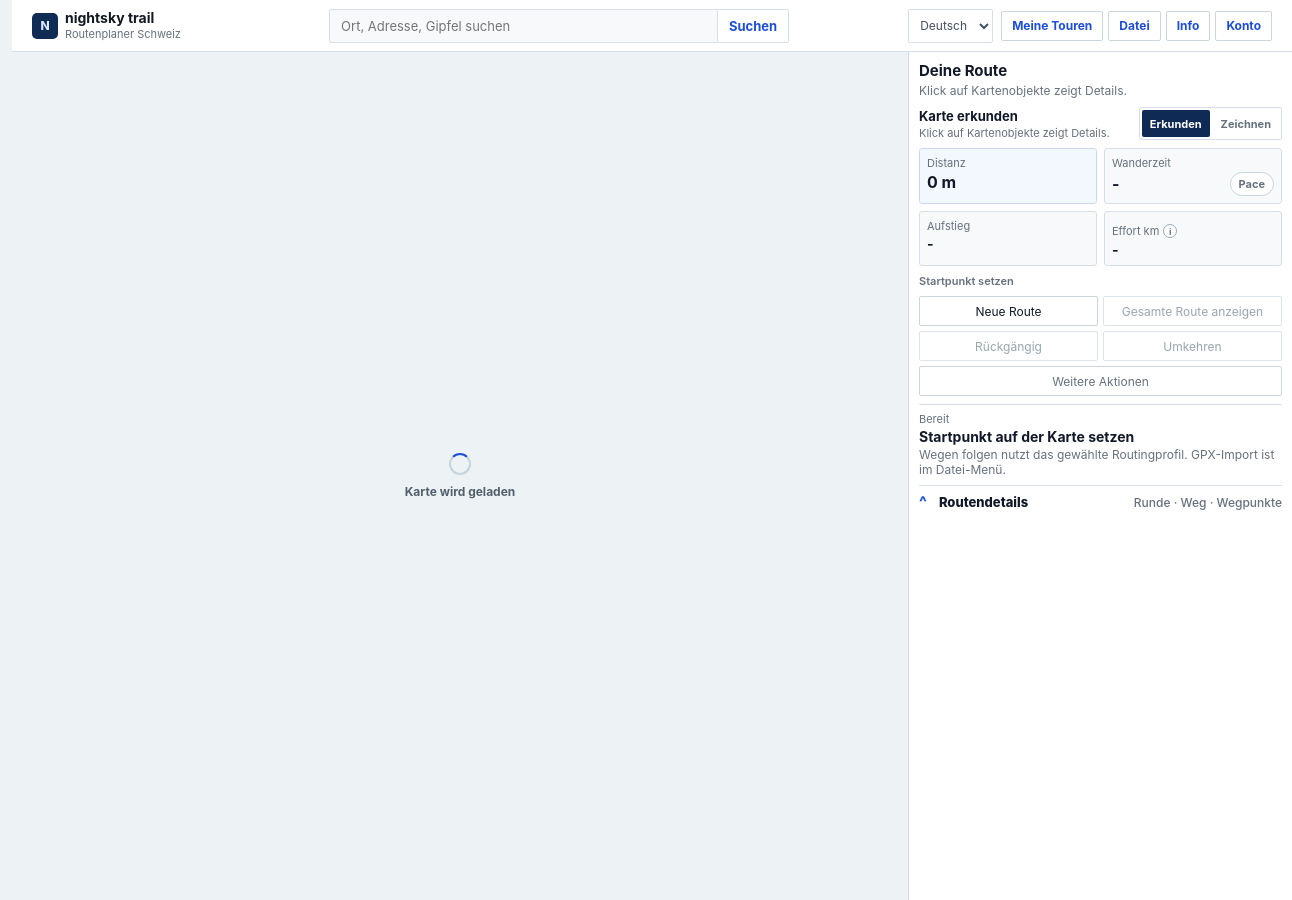
Test: App › starts in exploration mode and enables route tools explicitly
The width and height of the screenshot is (1292, 900).
Expected: the text "Karte erkunden" is shown, [919,108,1018,124]
Click the button "Zeichnen": [1246, 124] box [1213,110,1279,137]
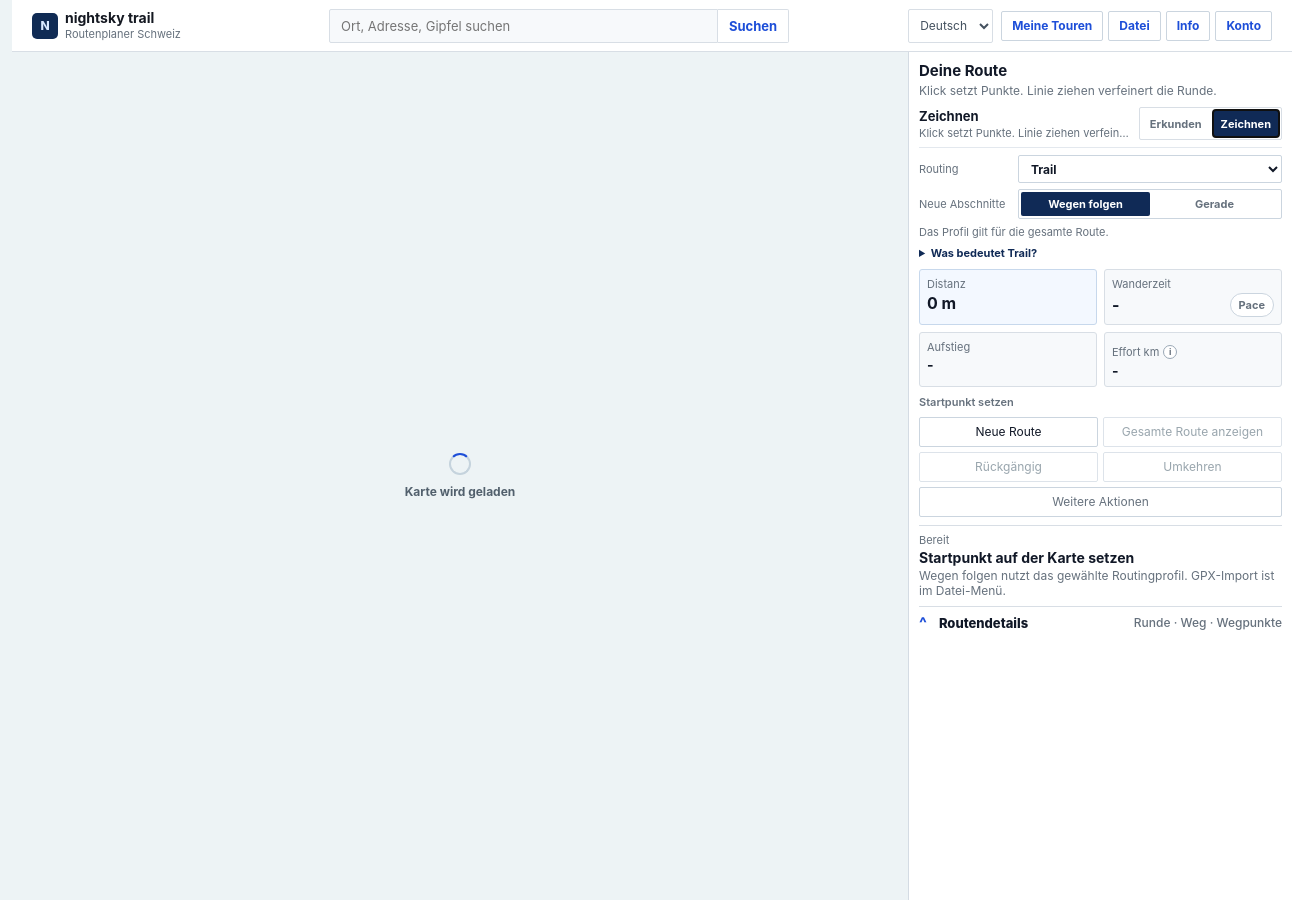
Expected: the dropdown named "Routing-Profil" shows "Trail", [1018,155,1282,183]
Expected: the text "Das Profil gilt für die gesamte Route." is shown, [919,225,1109,239]
Click the heading "Was bedeutet Trail?": [984, 253] box [931,246,1037,260]
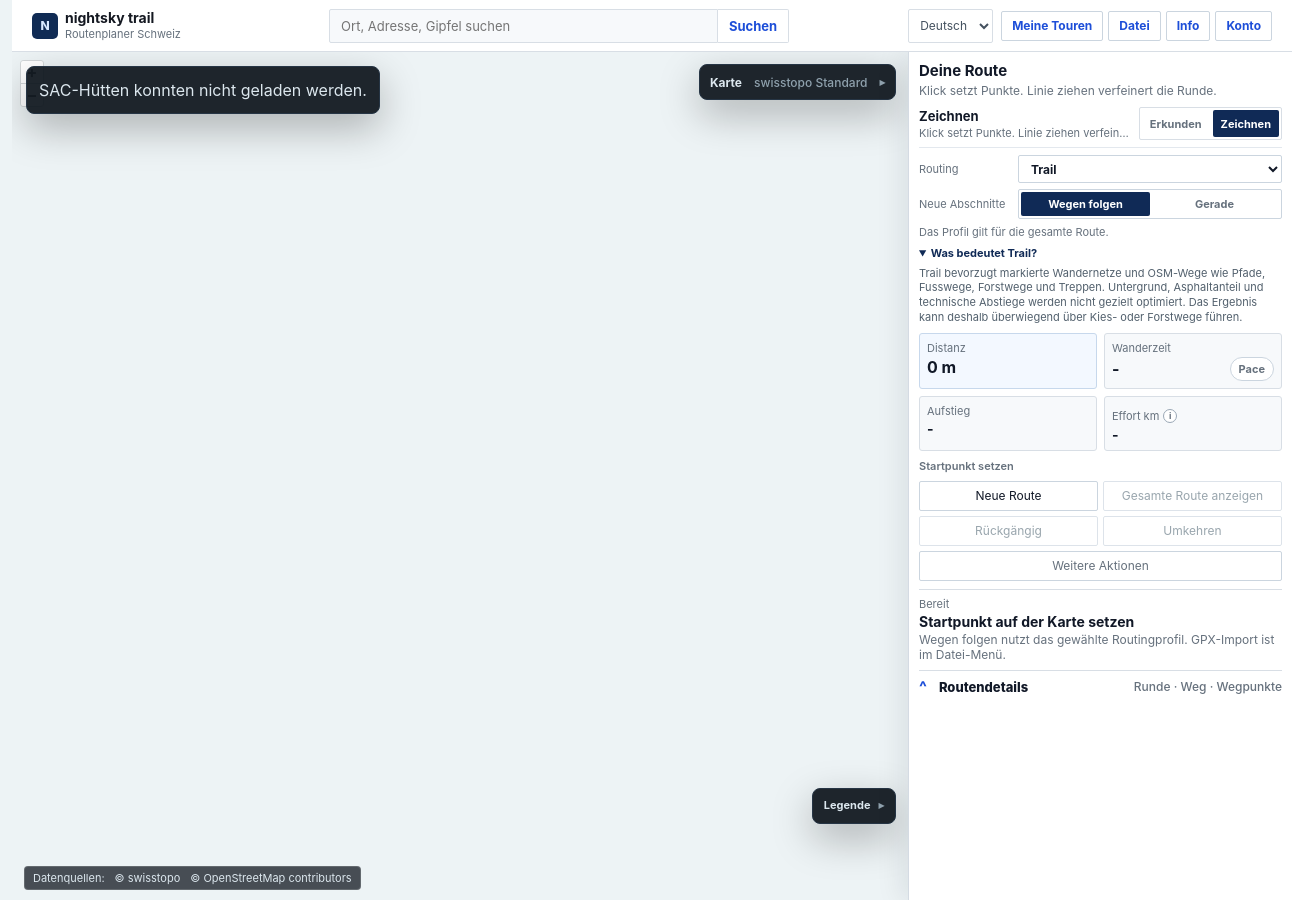
Expected: the text "Untergrund, Asphaltanteil und technische Abstiege" is shown, [919,266,1265,324]
